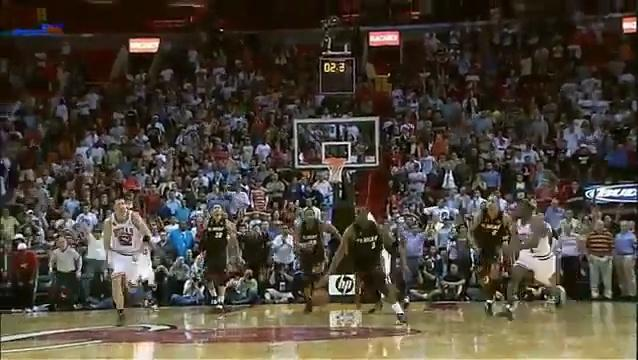Backboard: (295, 119, 377, 166)
Ball: (312, 289, 329, 306)
Basket: (323, 155, 350, 185)
Person: (333, 203, 411, 328), (97, 195, 158, 329), (506, 197, 564, 317), (290, 207, 340, 318), (465, 192, 509, 317), (199, 201, 243, 312)
Shot Clock: (318, 55, 358, 95)
